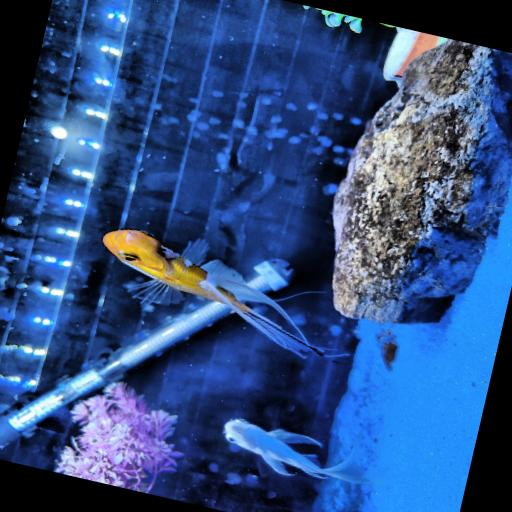Fish: (103, 229, 336, 357), (224, 419, 369, 483)
